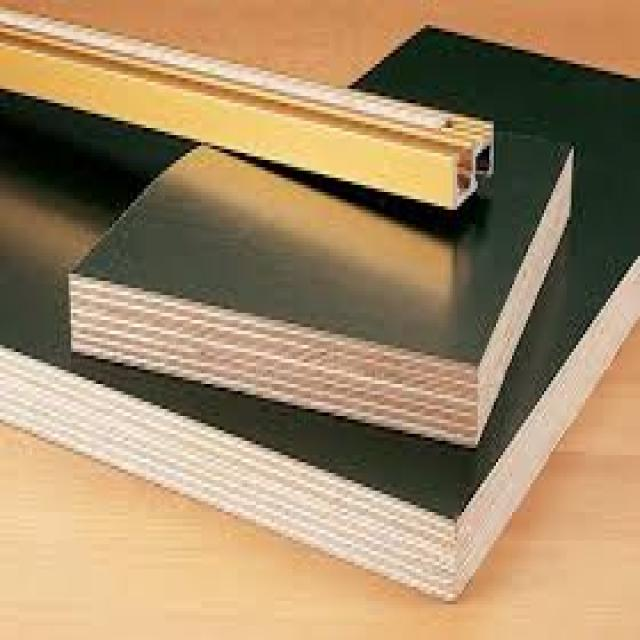Woods: (0, 25, 640, 601), (69, 132, 574, 448)
